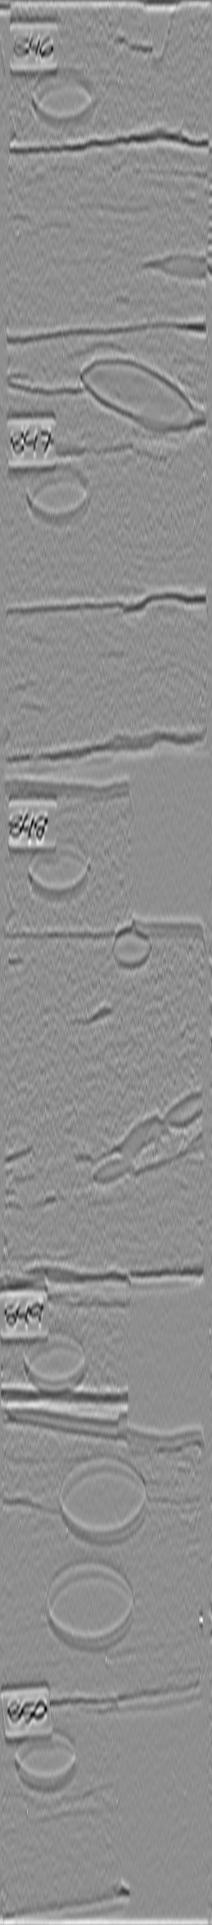hplug: (23, 834, 99, 907), (25, 61, 103, 131), (17, 1323, 93, 1395), (20, 462, 99, 529), (11, 1727, 83, 1792)
scal: (37, 1557, 137, 1655), (58, 1454, 151, 1549)
vplug: (116, 1263, 207, 1454), (107, 1689, 183, 1896), (125, 421, 201, 606), (121, 791, 201, 943), (119, 5, 192, 139)
